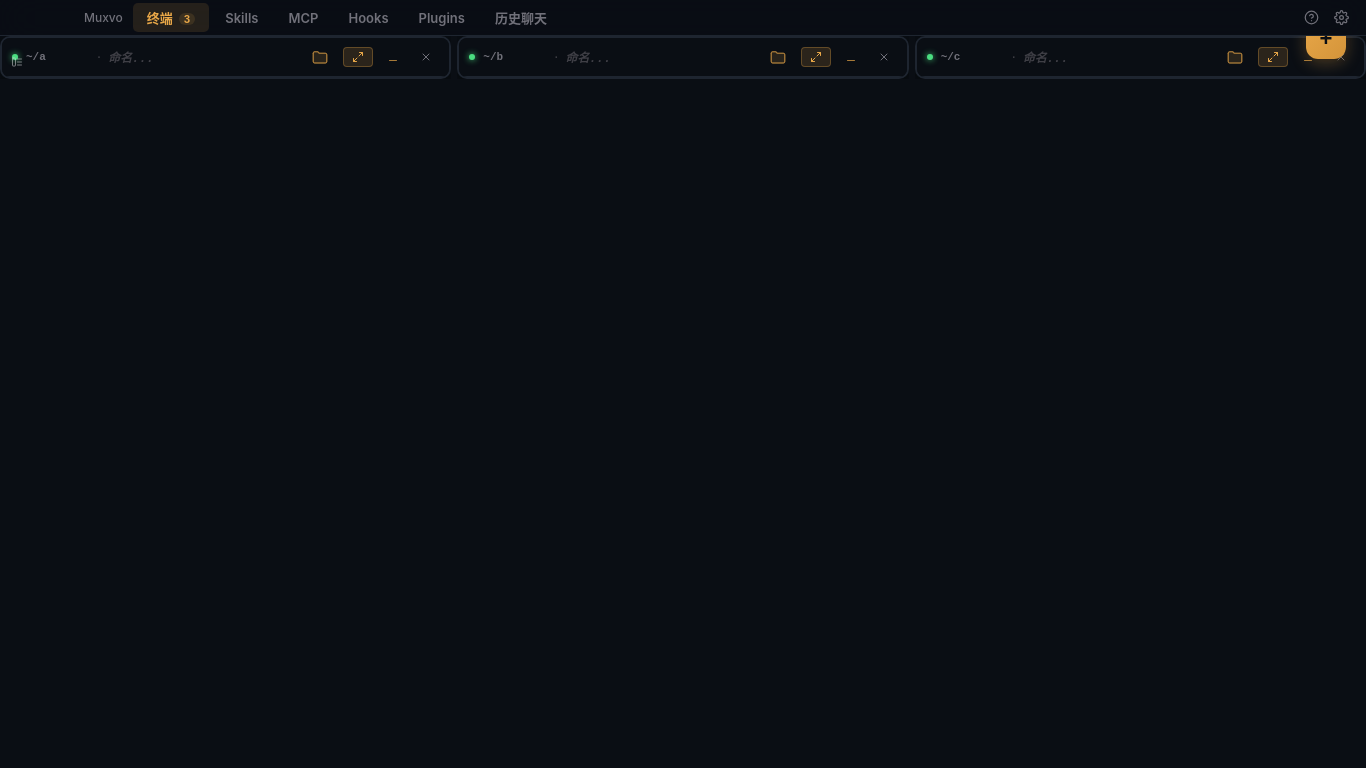
Test case: LiveChrome 配置面板路由（M6 批1） › MB_HELP_click_chain: 问号帮助钮 → 先关面板 + 发 helpOpen（menu-bar.md §6，B3）
Click the button with class "menu-bar__tab" showing "Skills". click: (242, 18)
box: left=211, top=3, right=272, bottom=32
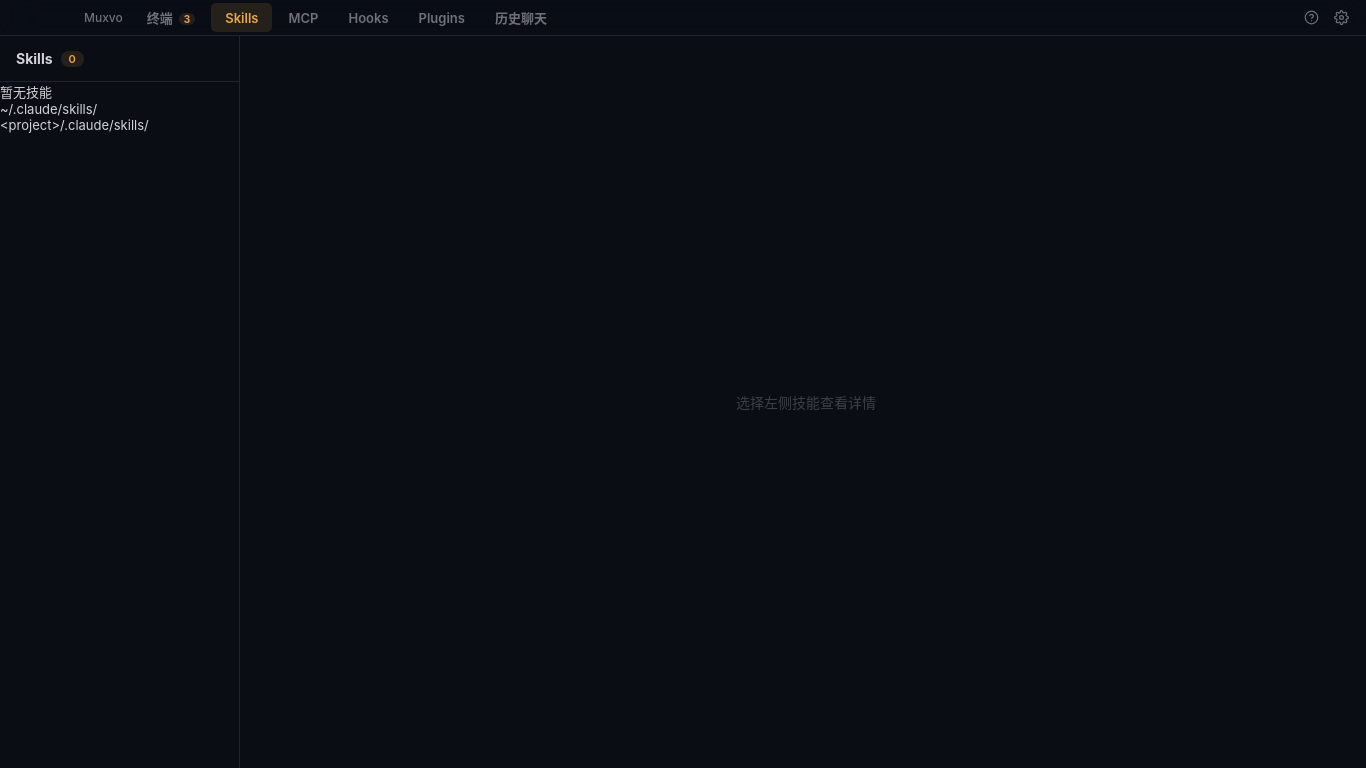
Expected: the element with class "live-panel-overlay" is shown
Click the 1st button with class "menu-bar__icon-btn". click: (1311, 18)
box: left=1298, top=4, right=1324, bottom=30
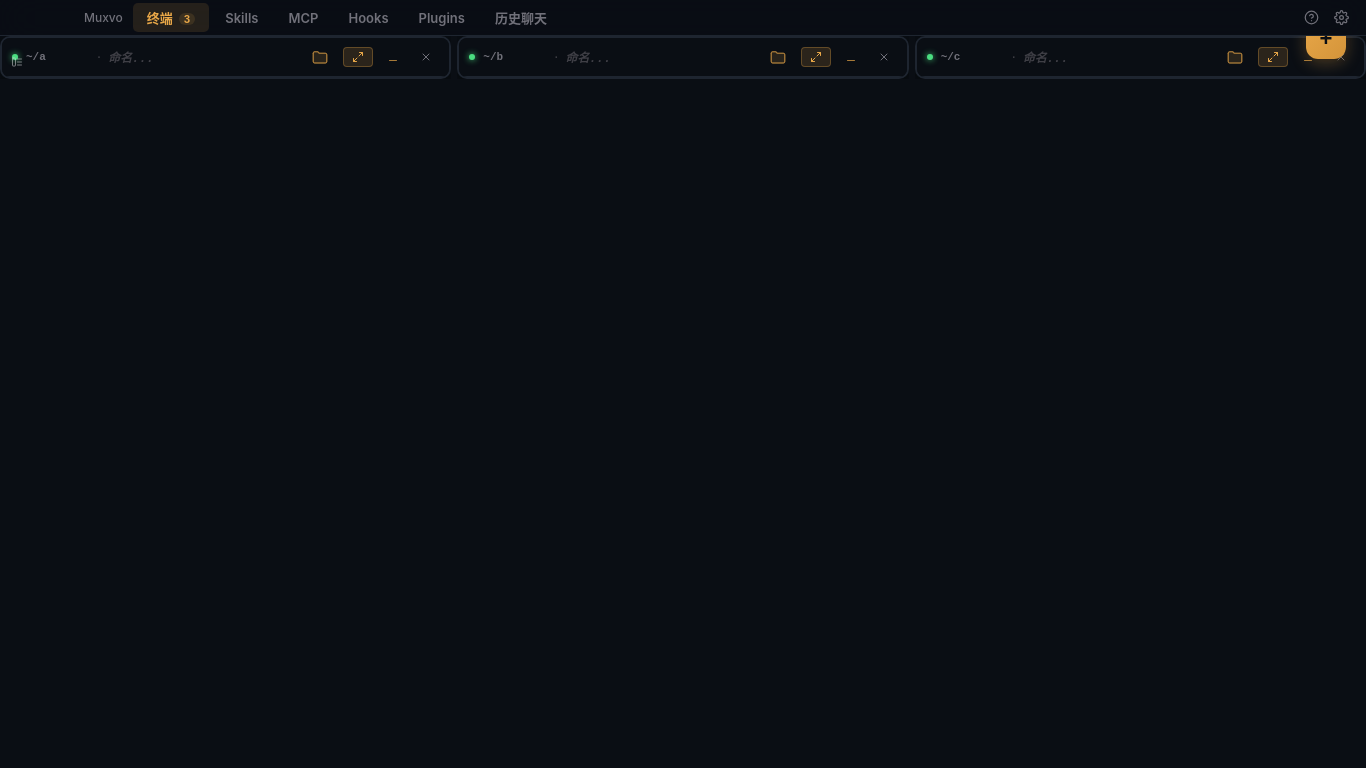
Expected: the element with class "live-panel-overlay" is gone
